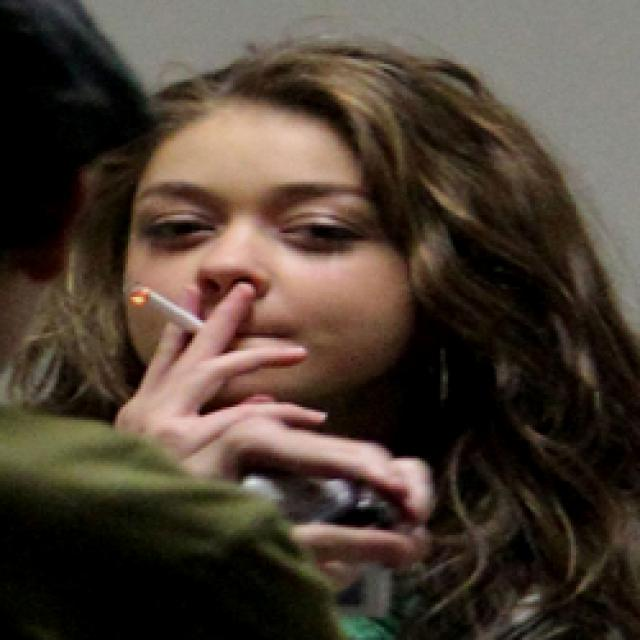Smooking: (112, 274, 204, 344)
